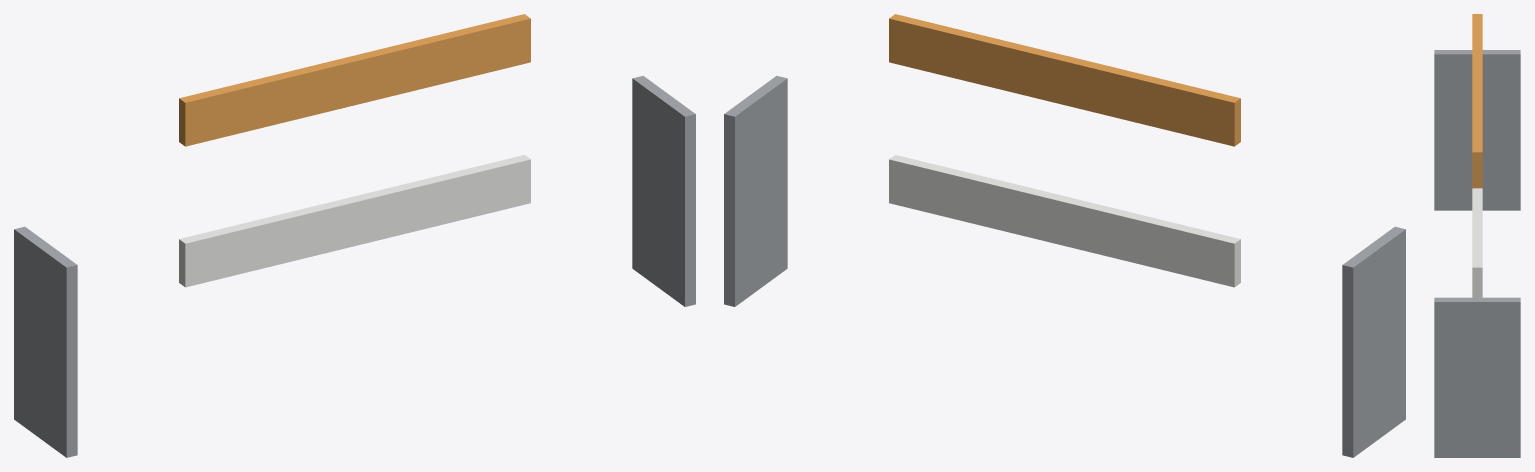
The model's file is construction_barrier.glb.
3 renders of one model, left to right at view 1: azimuth 30°, elevation 25°; view 2: azimuth 150°, elevation 25°; view 3: azimuth 270°, elevation 25°, orthographic. The views are drawn at different scales.
Visible parts, largest first — view 1: ConstructionBarrier; view 2: ConstructionBarrier; view 3: ConstructionBarrier.
Part boxes in pixels (x1,y1,x2,y2): ConstructionBarrier: [14, 14, 695, 457]; ConstructionBarrier: [724, 14, 1405, 457]; ConstructionBarrier: [1434, 14, 1520, 457].
Bounding box in the file's own units: 1.73 × 0.7975 × 0.25.
